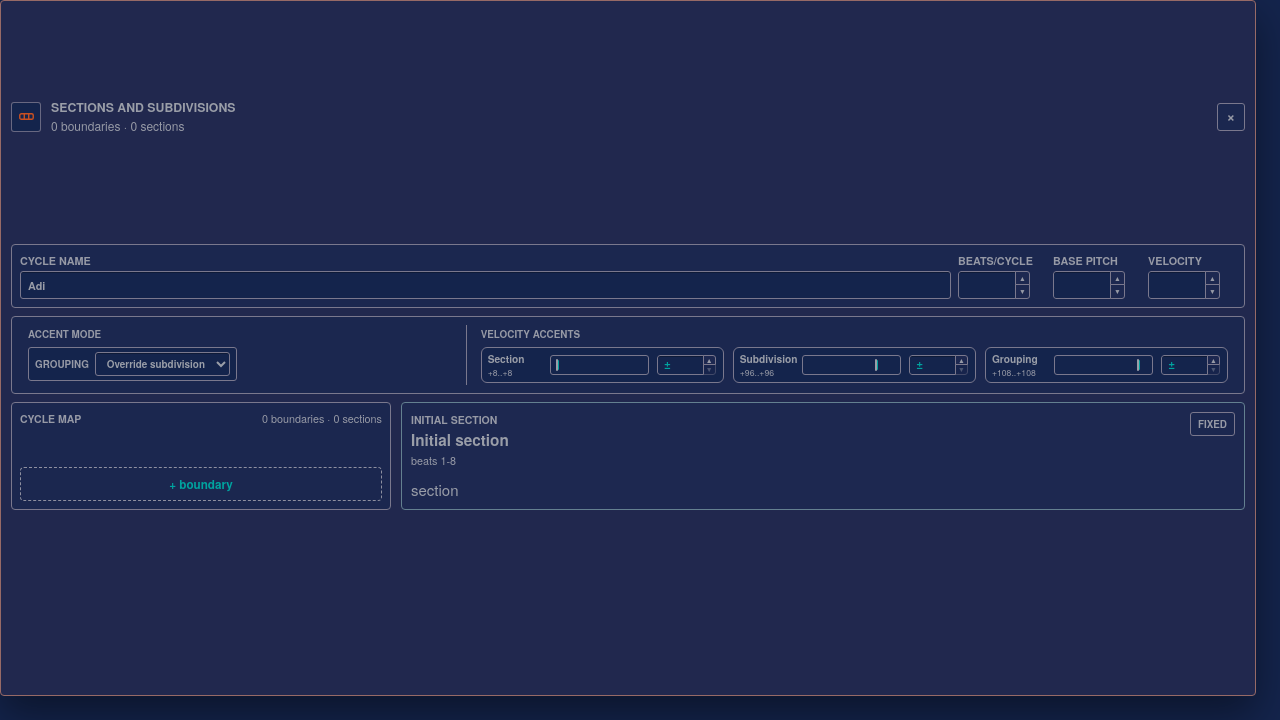
Test: SectionBoundariesPanel interaction state › cancels an uncommitted cycle-name edit with Escape
Replace the text in the field labelled "Cycle name" with "Discard me" at (486, 285), box [20,271,951,299]
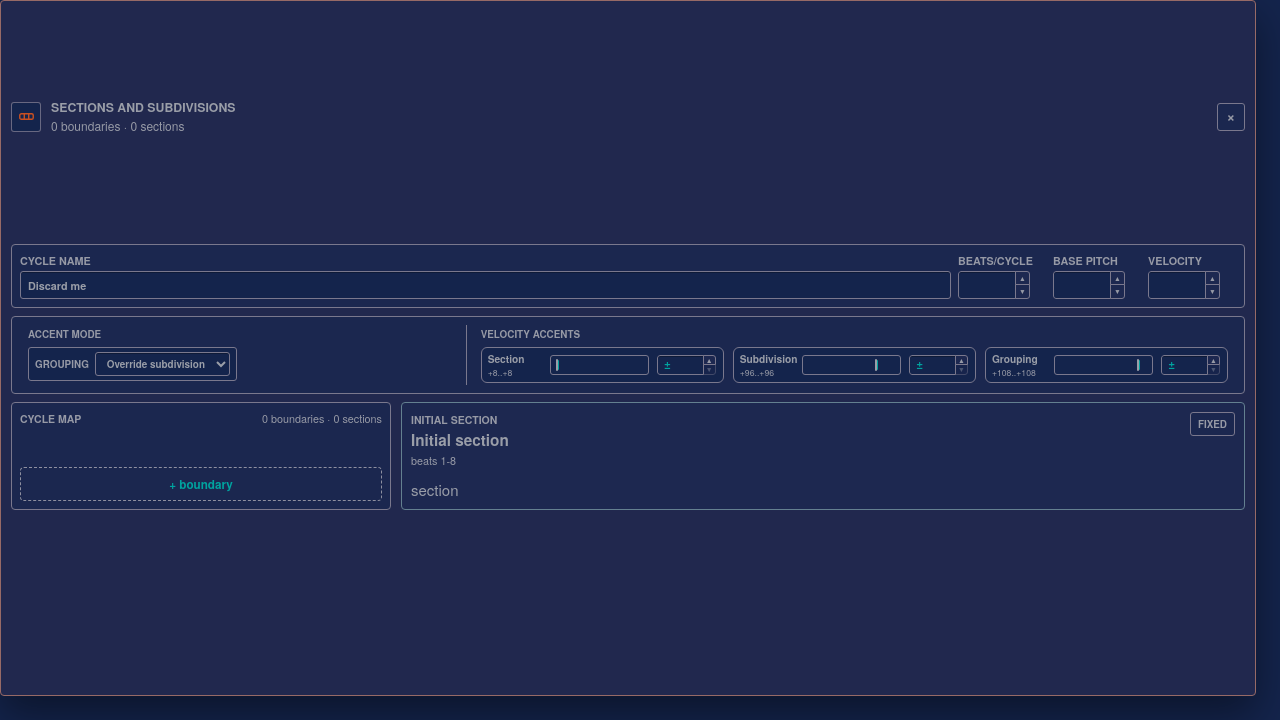
Press Escape in the field labelled "Cycle name", box [20,271,951,299]
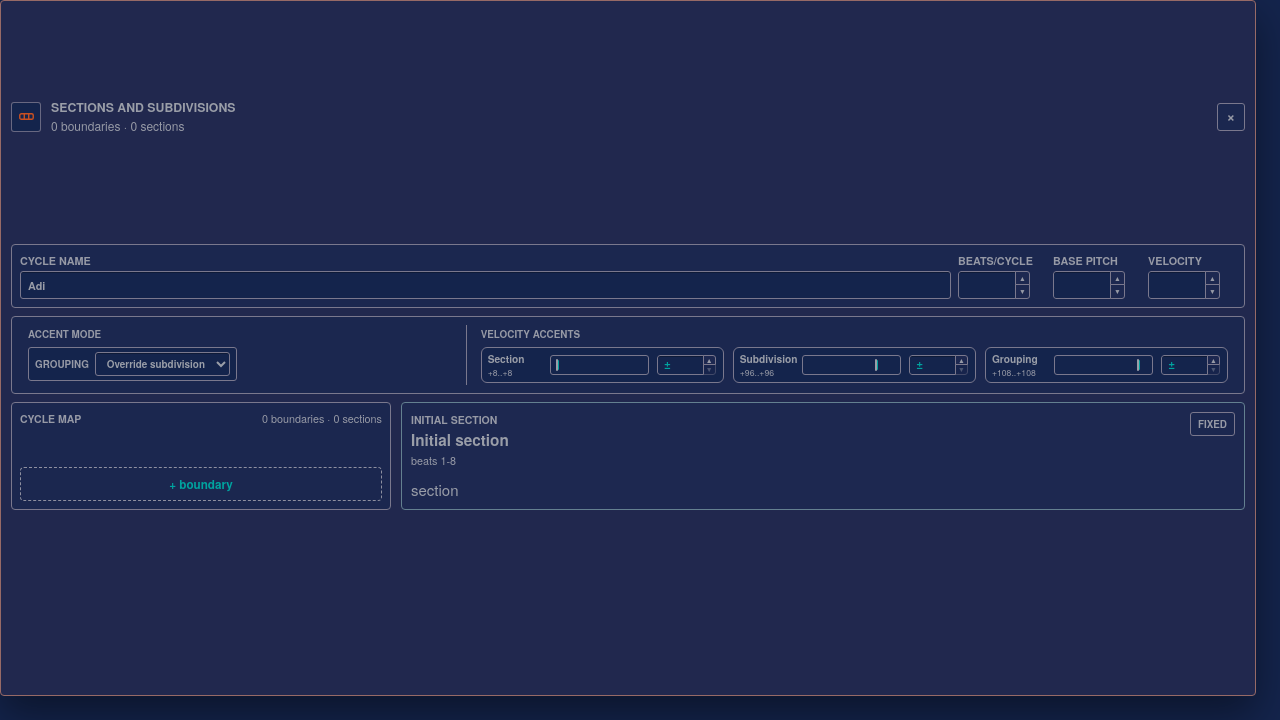
Expected: the field labelled "Cycle name" holds "Adi", [20,271,951,299]
